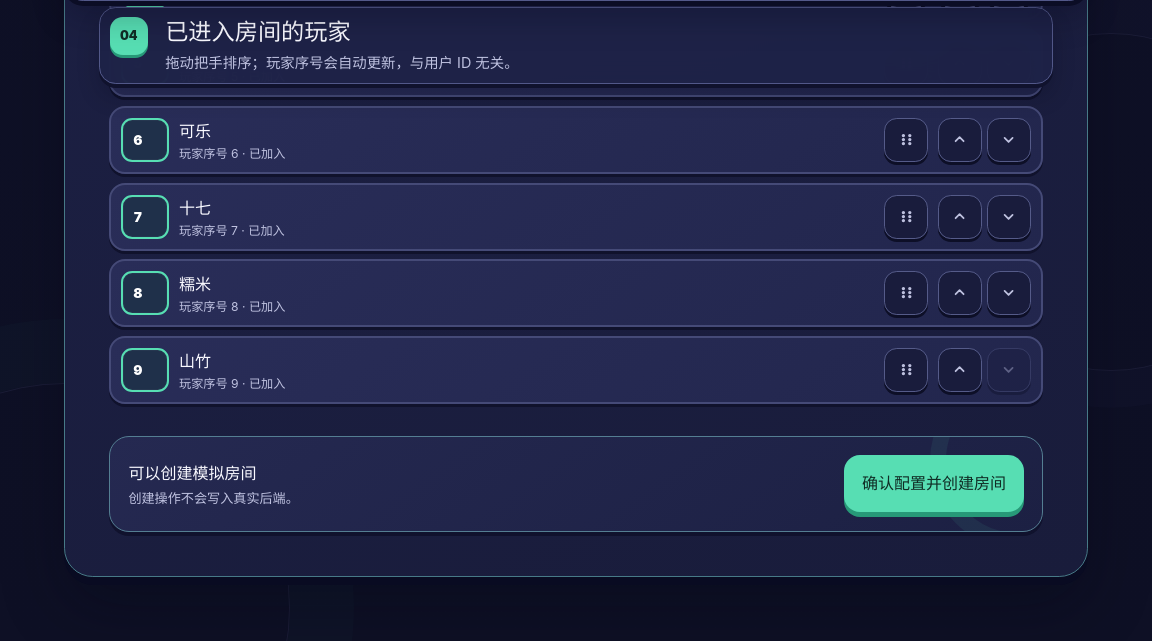
Test case: 上帝 Mock 流程 › 创建后按阵营展示角色卡，并在可关闭弹窗中显示角色说明
(page scrolled)
Click the button "确认配置并创建房间".
click(934, 484)  # box [844,456,1024,512]
(page scrolled)
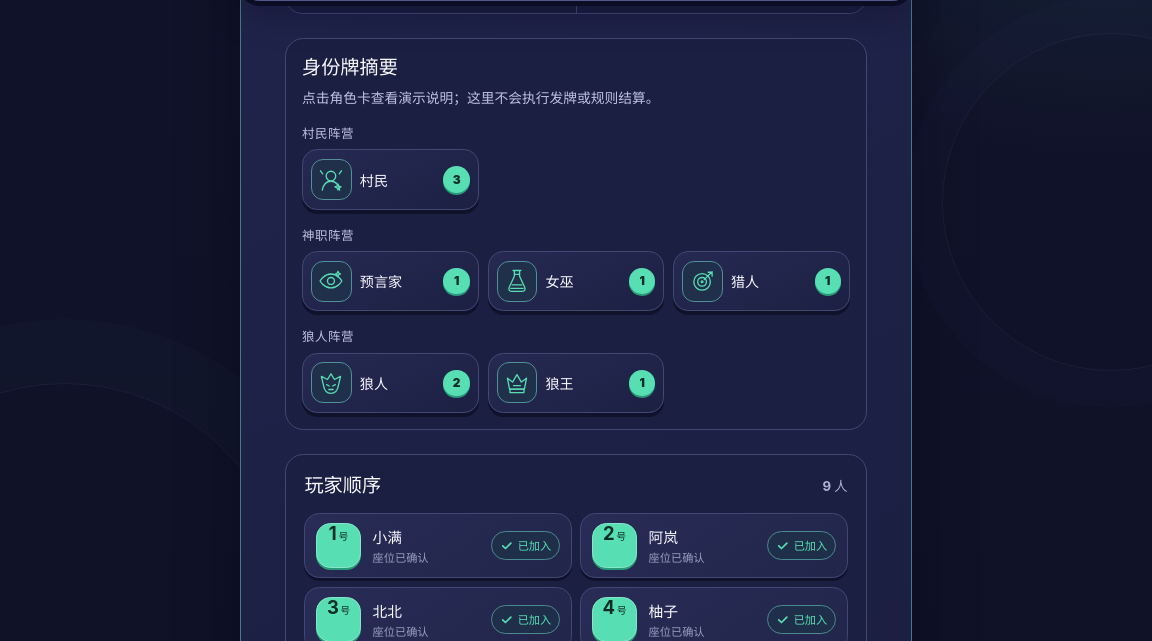
Result: the button with aria-label "查看村民角色说明" is shown at [303,150,478,209]
Result: the button with aria-label "查看预言家角色说明" is shown
Click the button with aria-label "查看预言家角色说明".
click(390, 281)  # box [303,252,478,310]
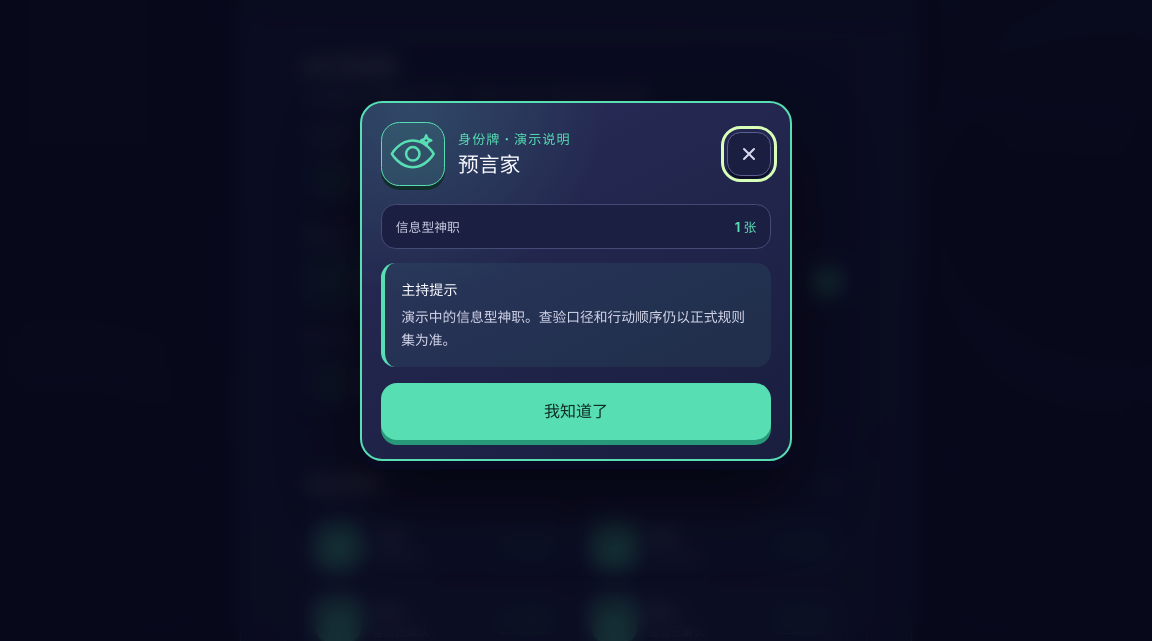
Result: the heading named "预言家 · 演示说明" is shown at [458,152,520,177]
Result: the text "演示中的信息型神职。查验口径和行动顺序仍以正式规则集为准。" is shown at [401,306,755,351]
Press Escape
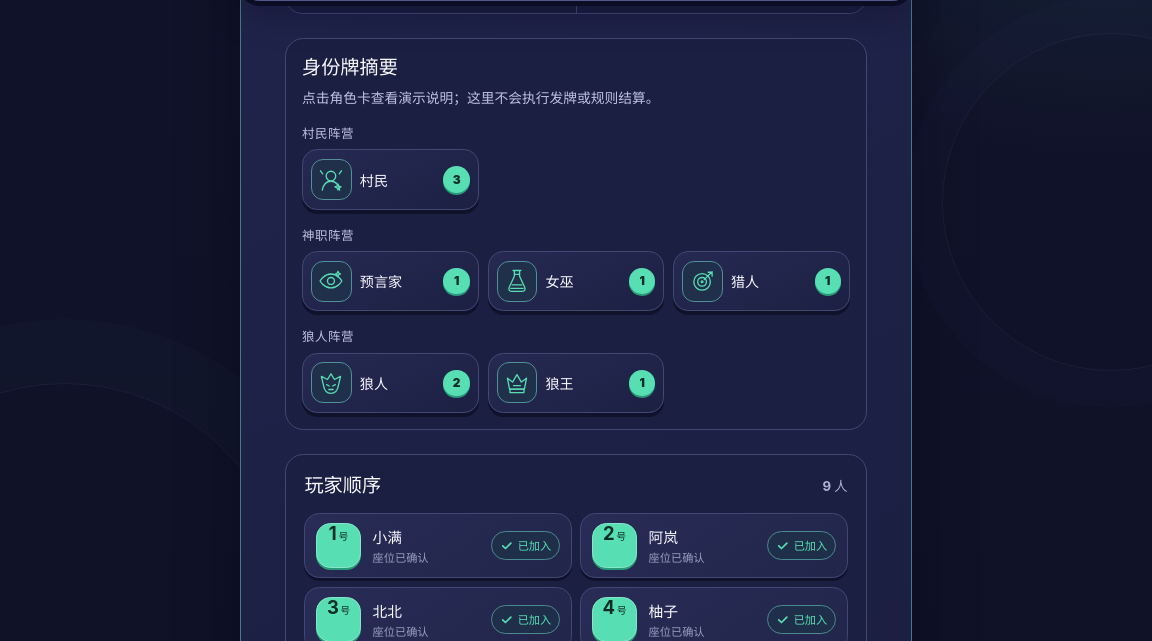
Result: the dialog is gone
